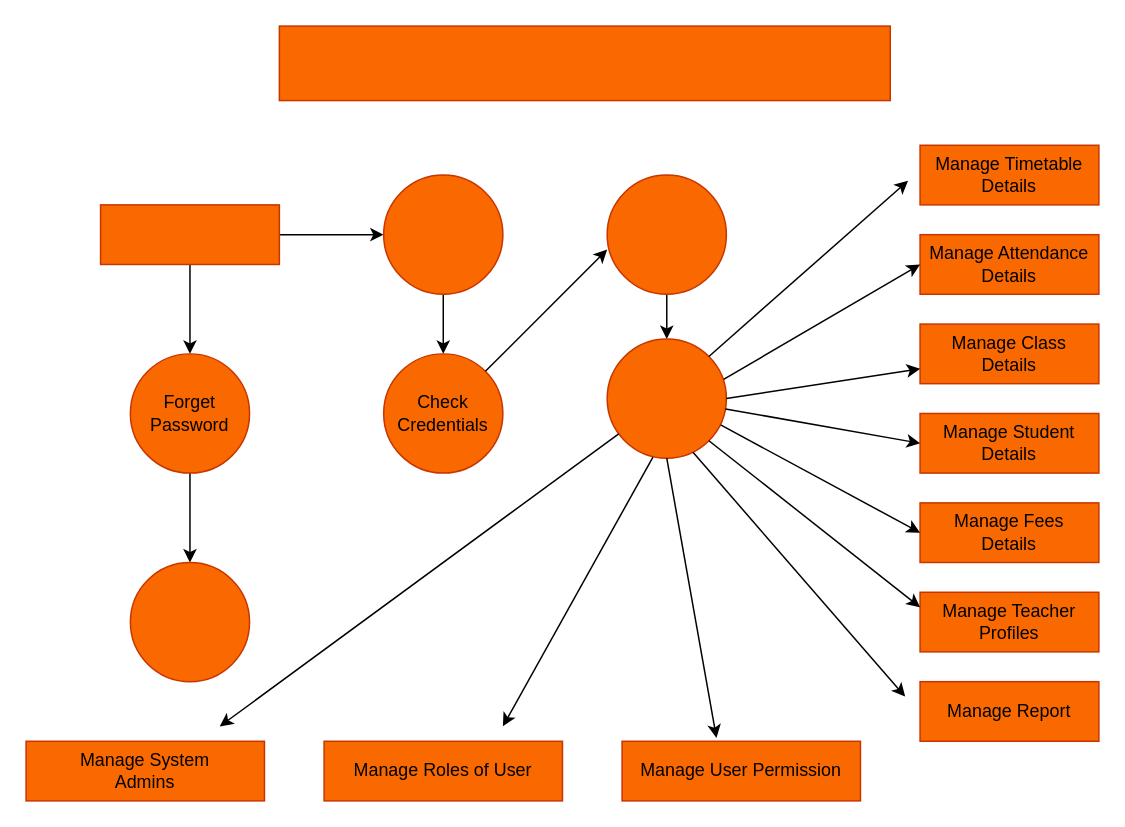
The diagram is 1125 pixels wide and 827 high, and some of its shapes have lost their labels. Each missing label, with the box of its shape:
Admin: (99, 203, 279, 264)
Check Roles of Access: (606, 174, 726, 294)
Login to System: (382, 174, 503, 294)
Manage Modules: (606, 337, 726, 458)
Send Email to User: (129, 561, 250, 682)
Student Information System: (278, 25, 890, 101)
